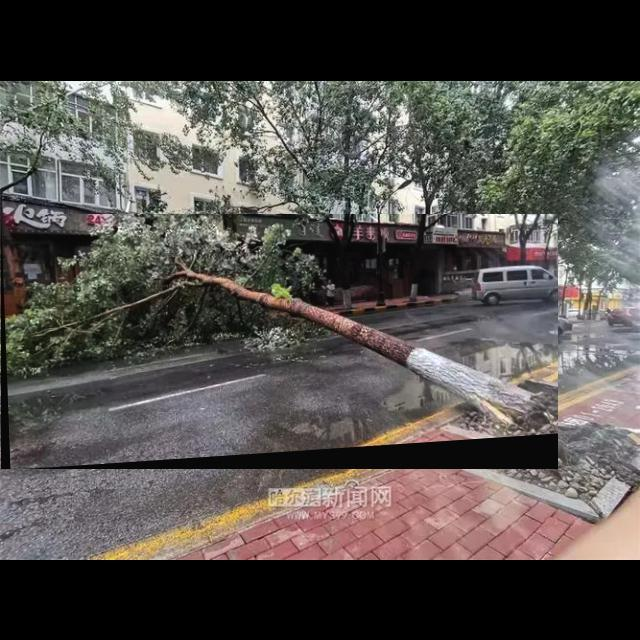fallen_tree: (1, 214, 559, 470)
